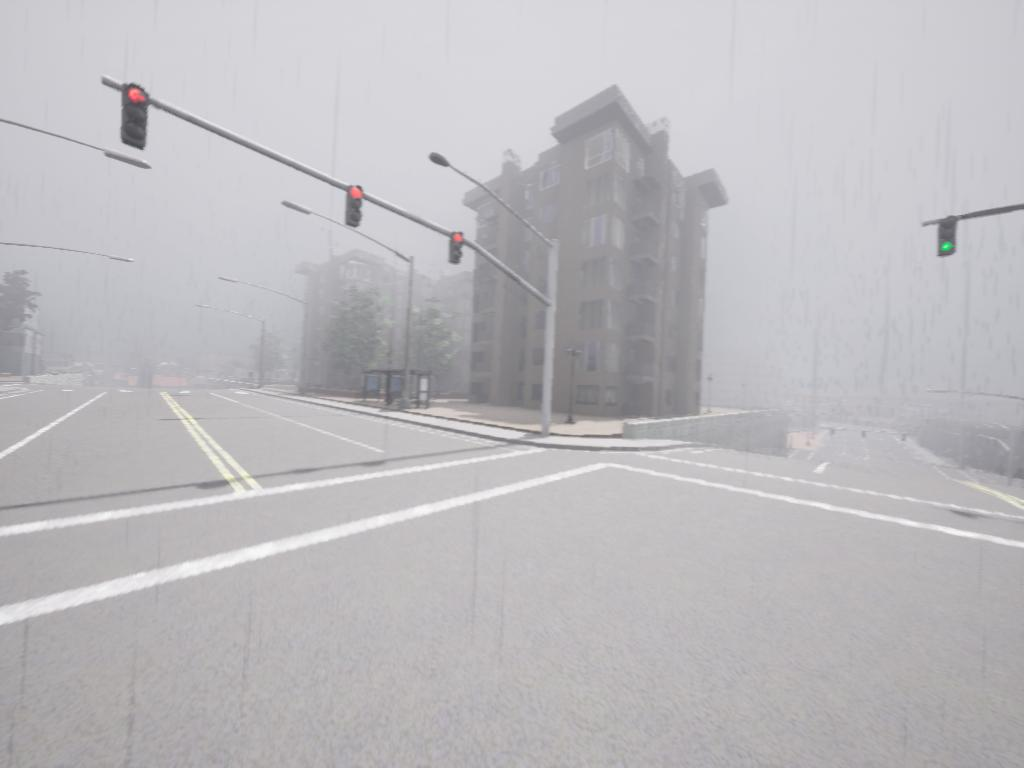traffic_light: (120, 82, 148, 150), (347, 183, 365, 231), (938, 217, 959, 258), (450, 229, 464, 266)
